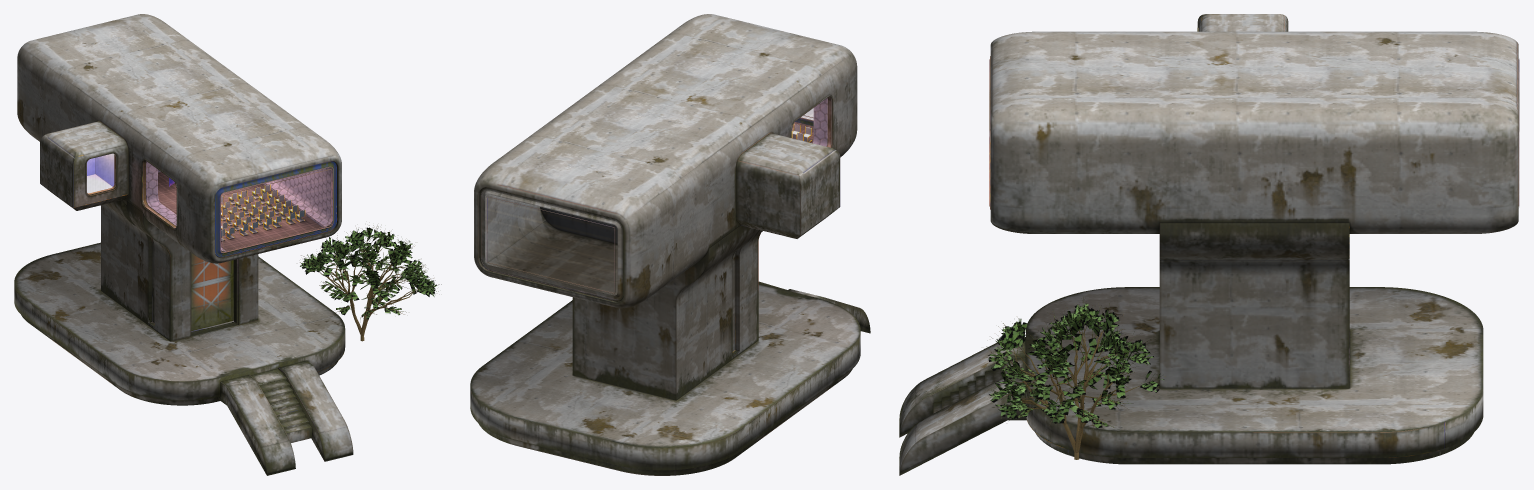
The model's file is brutalist_building4.glb.
The picture shows the model from 3 angles, left to right: view 1: azimuth 30°, elevation 25°; view 2: azimuth 150°, elevation 25°; view 3: azimuth 270°, elevation 25°; orthographic projection. The views are drawn at different scales.
Parts seen in each view (by area): view 1: Plane.001_1, leaves_0; view 2: Plane.001_1; view 3: Plane.001_1, leaves_0.
Boxes of the visible parts, x1,y1,x2,y2 form: Plane.001_1: (14,14,353,475); leaves_0: (300,225,441,341); Plane.001_1: (470,14,870,475); Plane.001_1: (899,14,1519,475); leaves_0: (986,296,1165,459).
Bounding box in the file's own units: 6.87 × 6 × 8.93.
16 materials, 16 textured.
